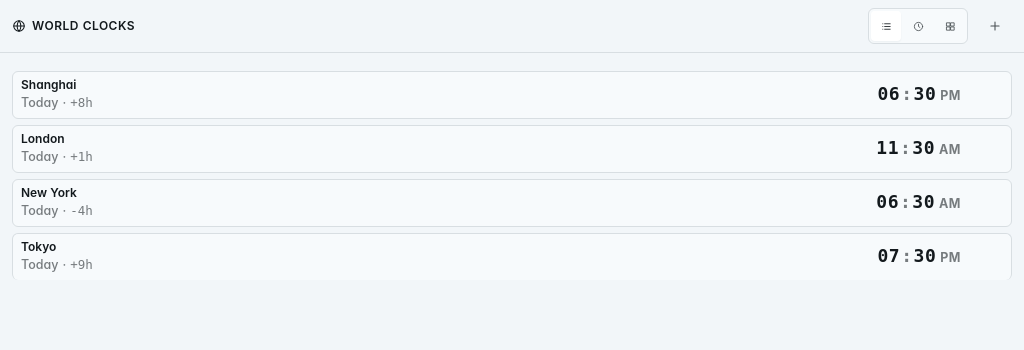
WorldClocks › AC-WORLDCLOCKS-4: selecting a city adds it to xai_zones
What coordinates should you click on to do the following:
click the button named "Add city"
I would click on:
 (995, 26)
Its box is 978,9 -> 1012,43.
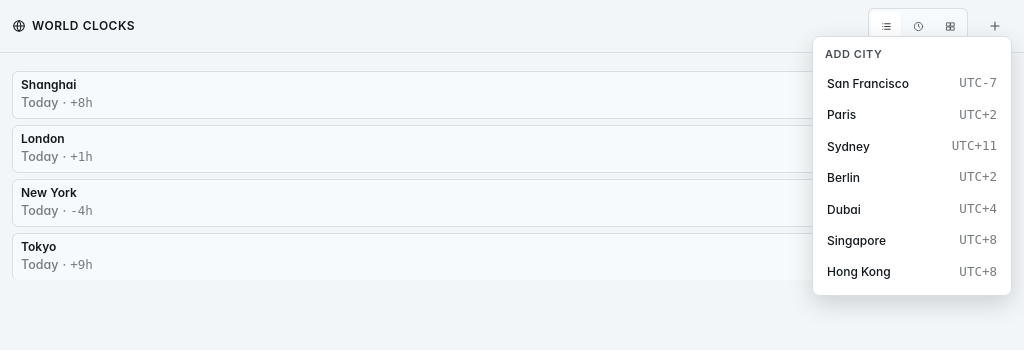
What coordinates should you click on to do the following:
click the button "Paris UTC+2"
I would click on:
 (912, 115)
Its box is 819,100 -> 1005,130.
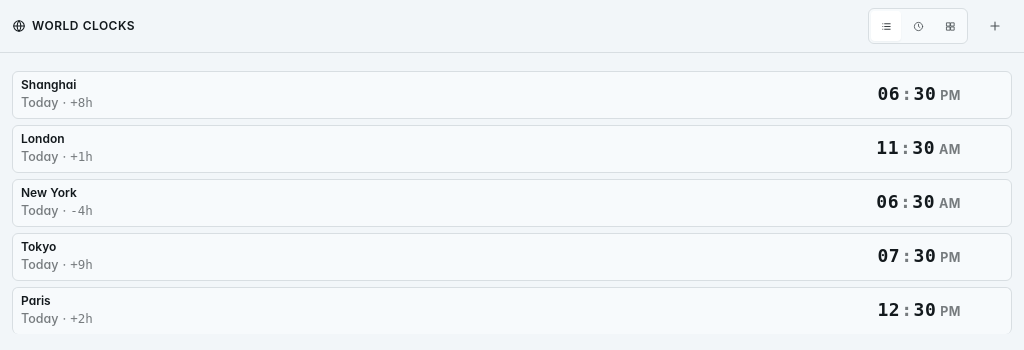
Check: the element with class "tz-picker" is gone
